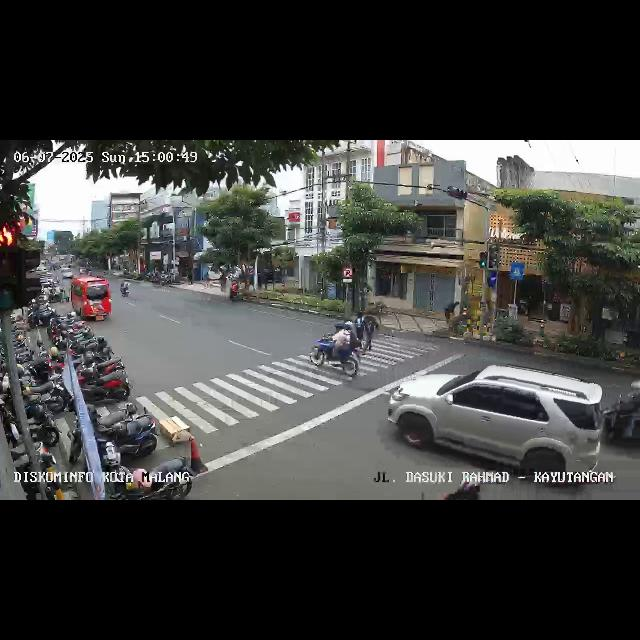car: (388, 364, 602, 484), (70, 278, 114, 322), (60, 268, 74, 280)
motorcycle: (598, 380, 640, 456), (308, 322, 362, 380), (118, 279, 132, 301)
person: (363, 311, 381, 355), (356, 311, 364, 351)
